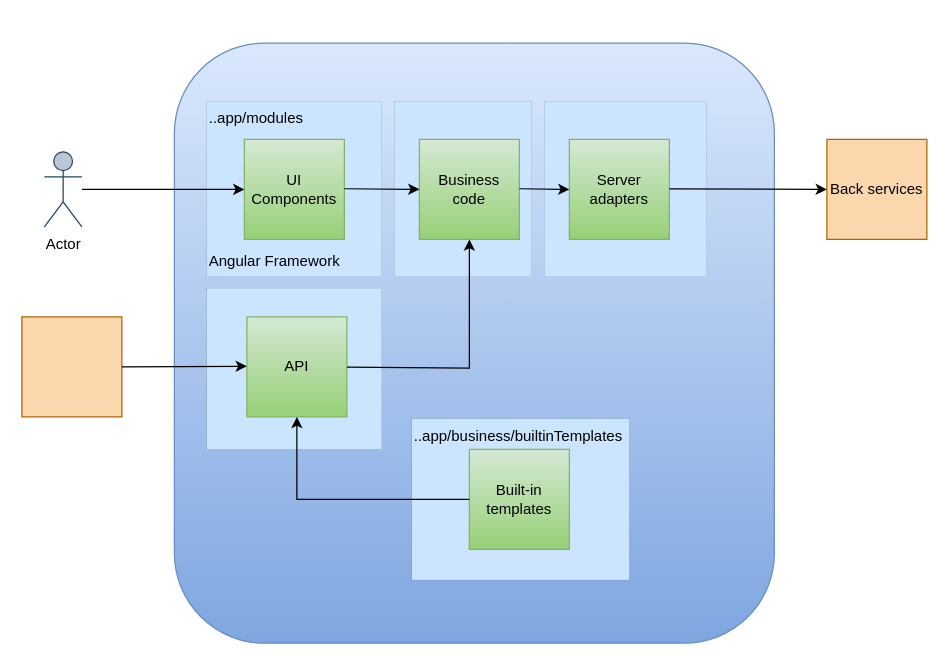
Image size: 949x665. Some labels were removed from this diagram. Each missing label, with the box of its shape:
..app/api: (206, 288, 381, 449)
..app/business: (394, 101, 531, 276)
..app/server Angular Framework: (544, 101, 706, 276)
Templates: (21, 316, 122, 417)
